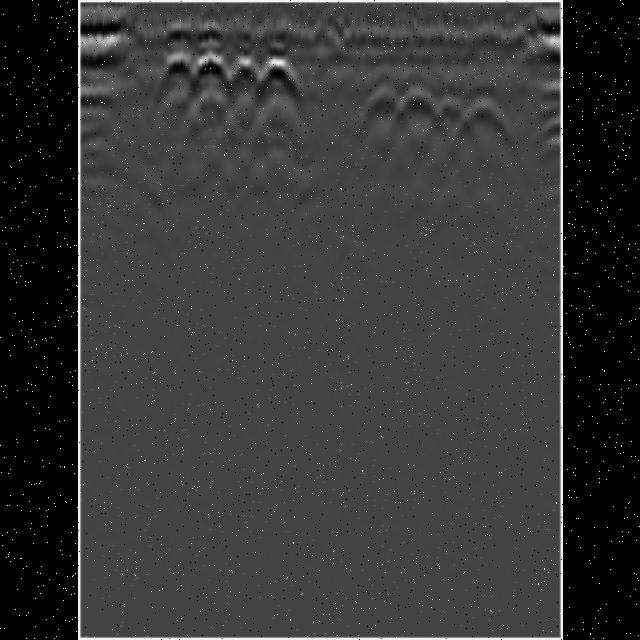hyperbola: (458, 89, 504, 143), (220, 47, 268, 93), (150, 48, 200, 90), (394, 83, 438, 129), (362, 80, 406, 118), (258, 55, 298, 95), (190, 49, 228, 86), (432, 92, 474, 125)
